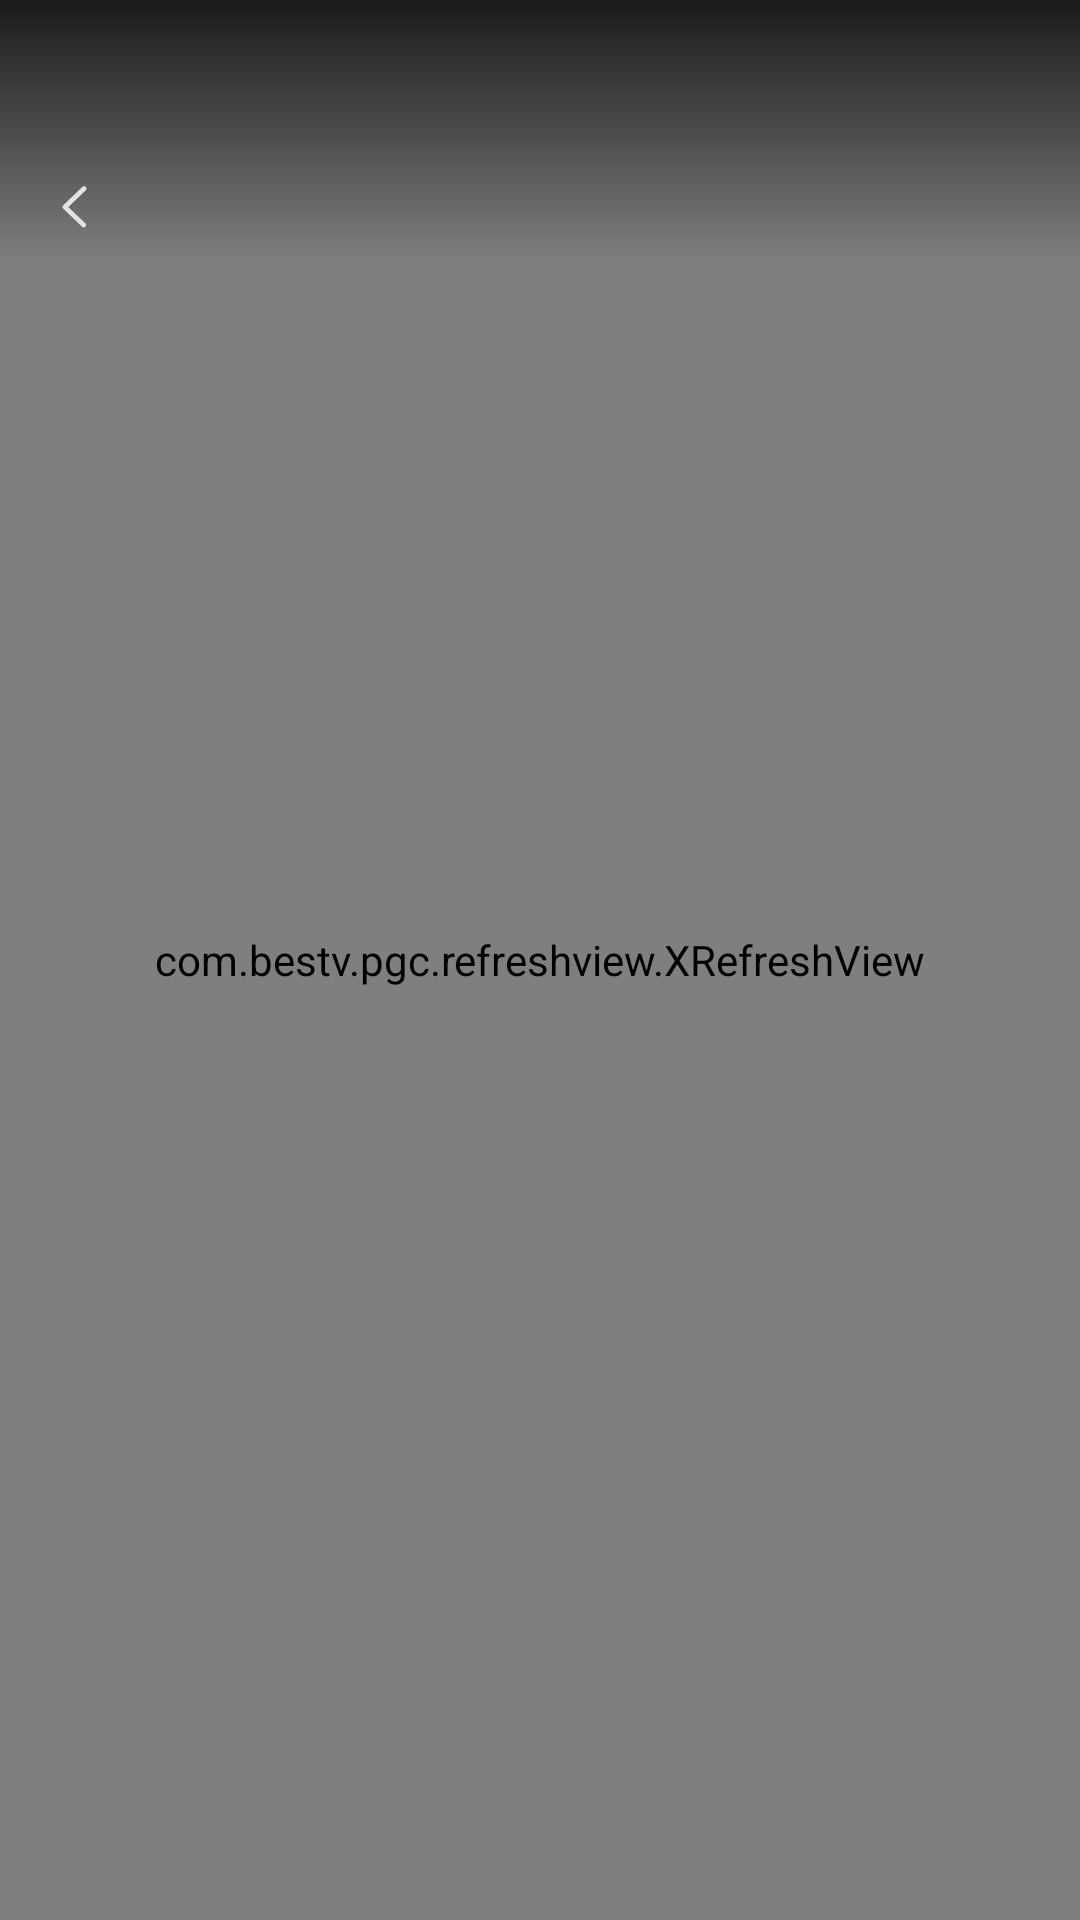

Screen size 1080px x 1920px. Icon name, then its box in pixels as (x1, y1, x2, y2):
ipdetailsback: (62, 186, 87, 228)
